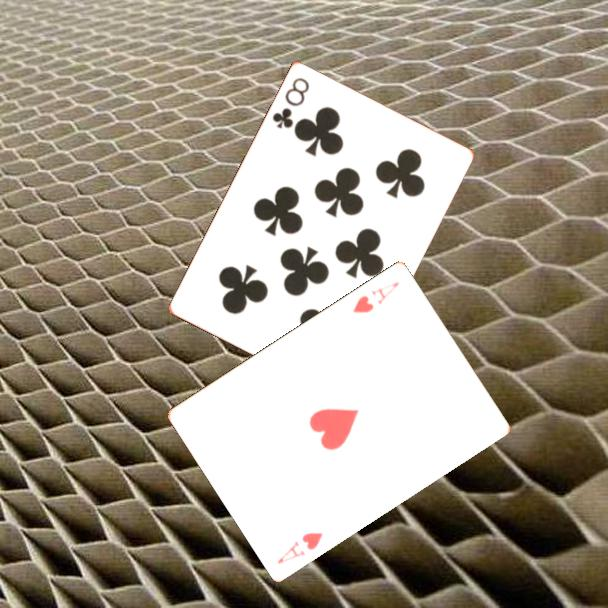c08: (269, 74, 312, 131)
h01: (273, 528, 326, 567), (349, 278, 403, 316)
